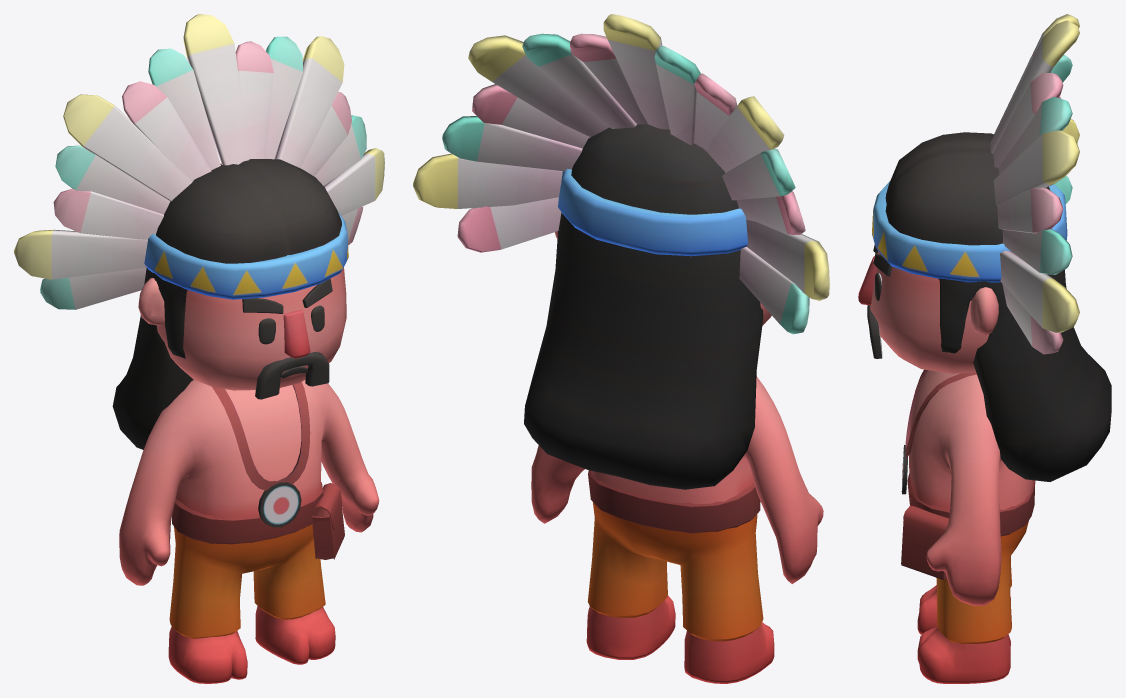
The model's file is Native_thin.fbx.
3 renders of one model, left to right at view 1: azimuth 30°, elevation 25°; view 2: azimuth 150°, elevation 25°; view 3: azimuth 270°, elevation 25°, orthographic. The views are drawn at different scales.
Visible parts, largest first — view 1: Native_thin; view 2: Native_thin; view 3: Native_thin.
Part boxes in pixels (bbox=[...]): Native_thin: bbox=[14, 14, 384, 683]; Native_thin: bbox=[413, 14, 829, 683]; Native_thin: bbox=[858, 14, 1111, 683].
Bounding box in the file's own units: 362 × 564 × 207.
1 material, 1 textured.
